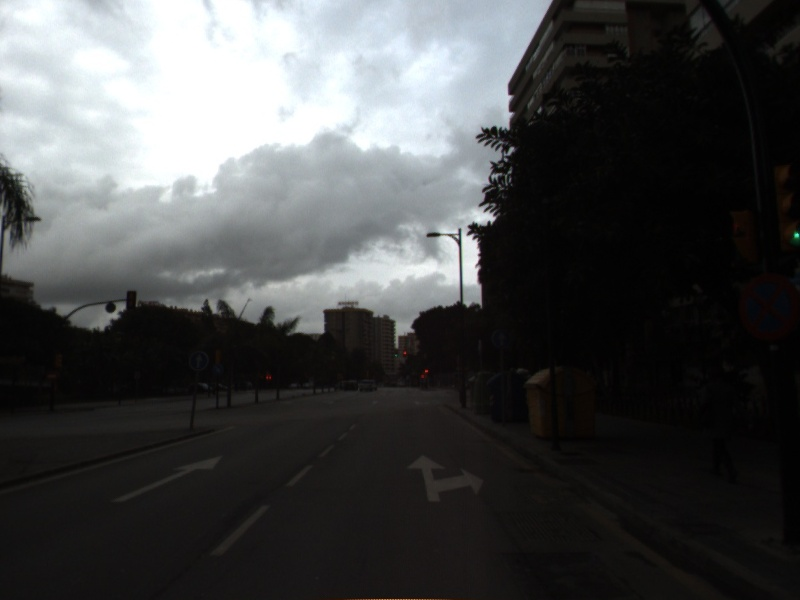STRAIGHT: (109, 453, 224, 505)
STRAIGHT_RIGHT: (405, 452, 486, 506)
